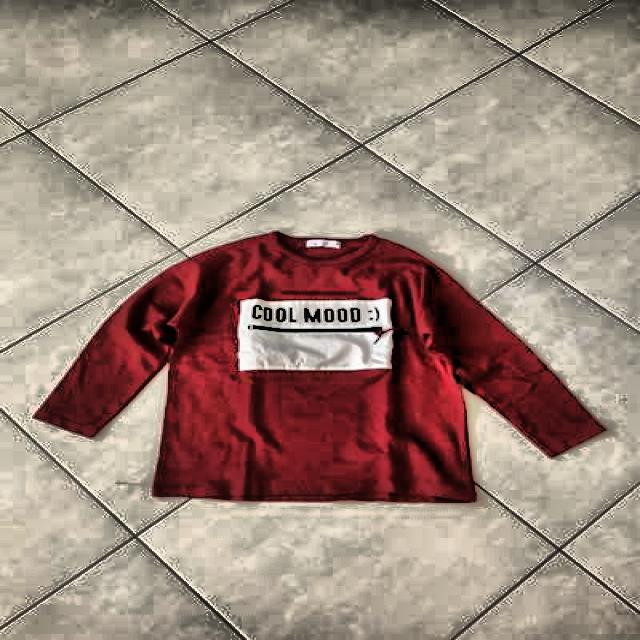clothes: (29, 227, 616, 508)
